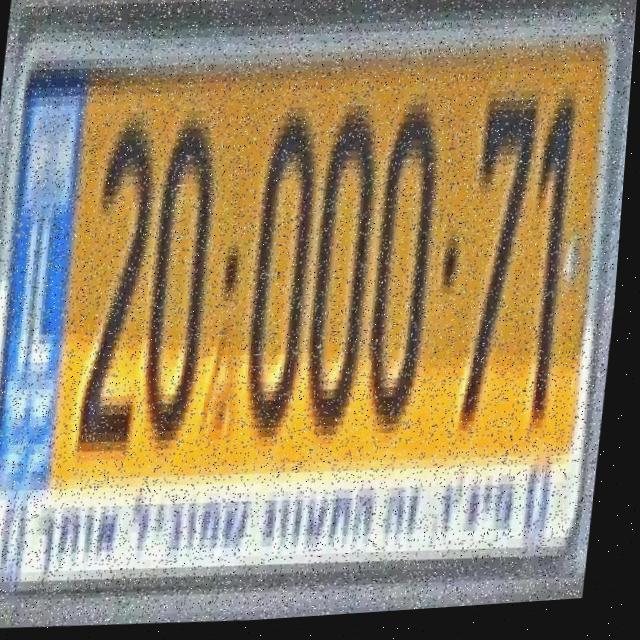LicensePlate: (0, 0, 640, 618)
